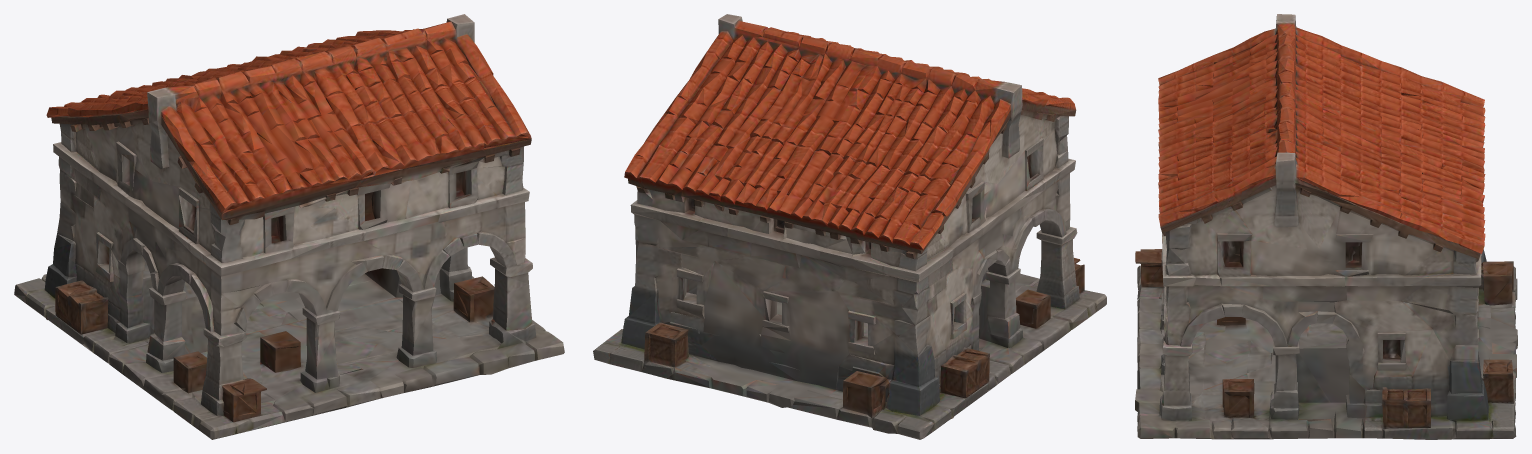
The model's file is market.glb.
3 views of the same model, side by side, from view 1: azimuth 30°, elevation 25°; view 2: azimuth 150°, elevation 25°; view 3: azimuth 270°, elevation 25° (orthographic). The views are drawn at different scales.
Bounding box in the file's own units: 1.85 × 1.4 × 1.8.
Materials: 1 (1 with a texture image).
